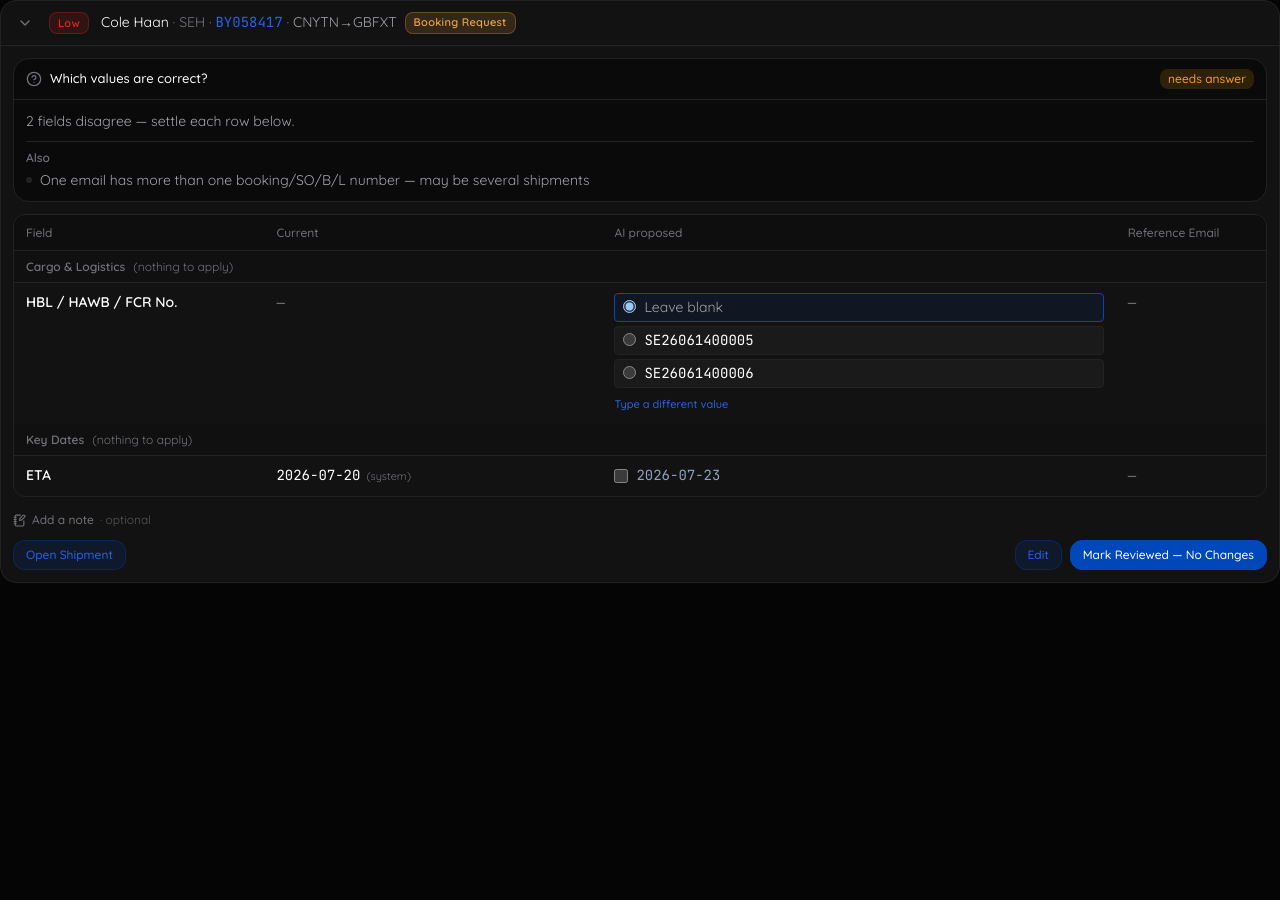
Test: conflict table — read-only by default, Edit to change values › Edit reveals inputs pre-filled with the stored value; multi-candidate keeps every option, none pre-picked
The image size is (1280, 900).
Expected: the column heading with test id "proposed-column-header" reads "AI proposed", [614,224,682,240]
Click the button "Edit".
click(1038, 555)  # box [1015,540,1062,570]
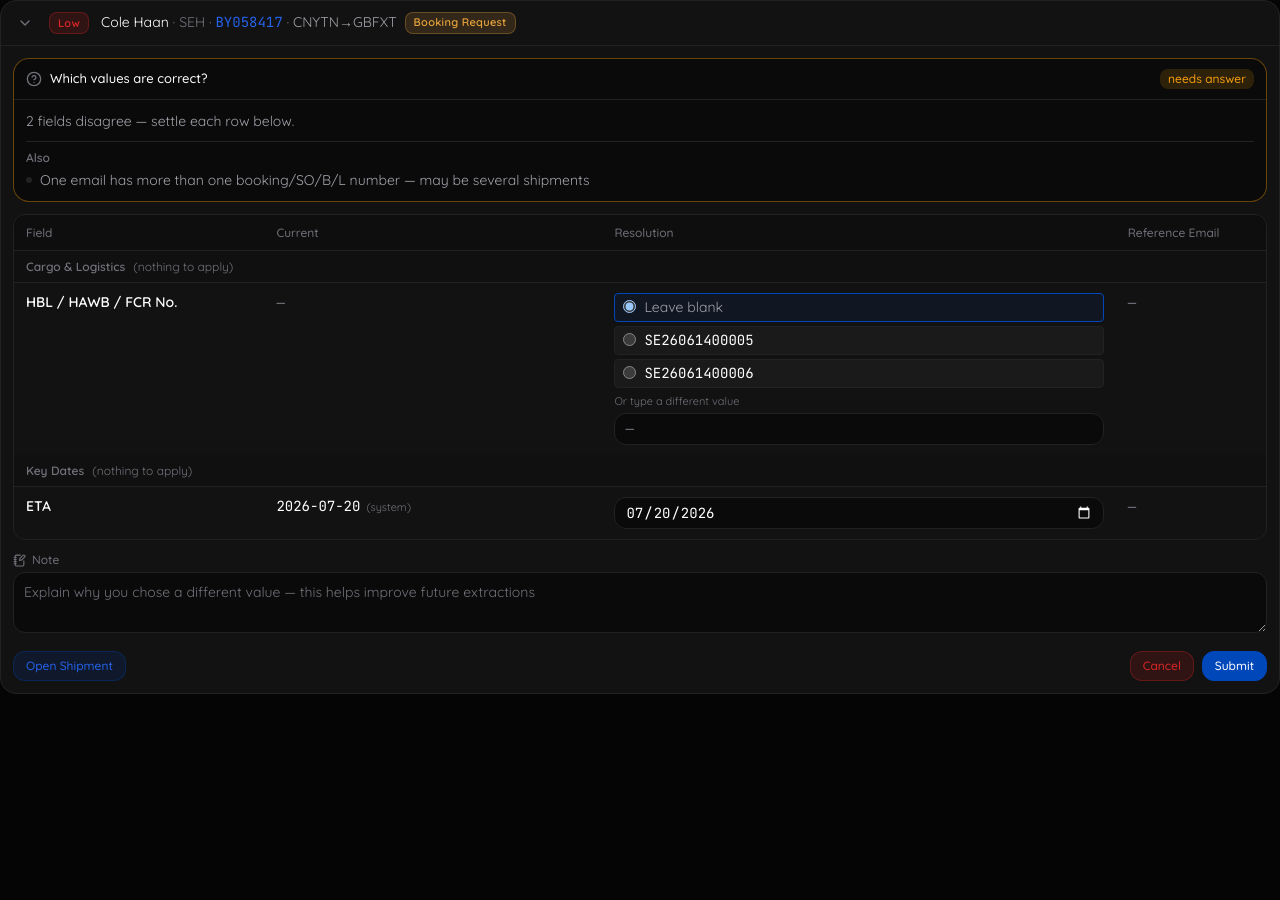
Expected: the field named "proposed value for hbl" is empty, [614,413,1104,445]
Result: the column heading with test id "proposed-column-header" reads "Resolution" at [614,224,674,240]
Result: the date field with test id "datetime-date" holds "2026-07-20" at [614,497,1104,529]
